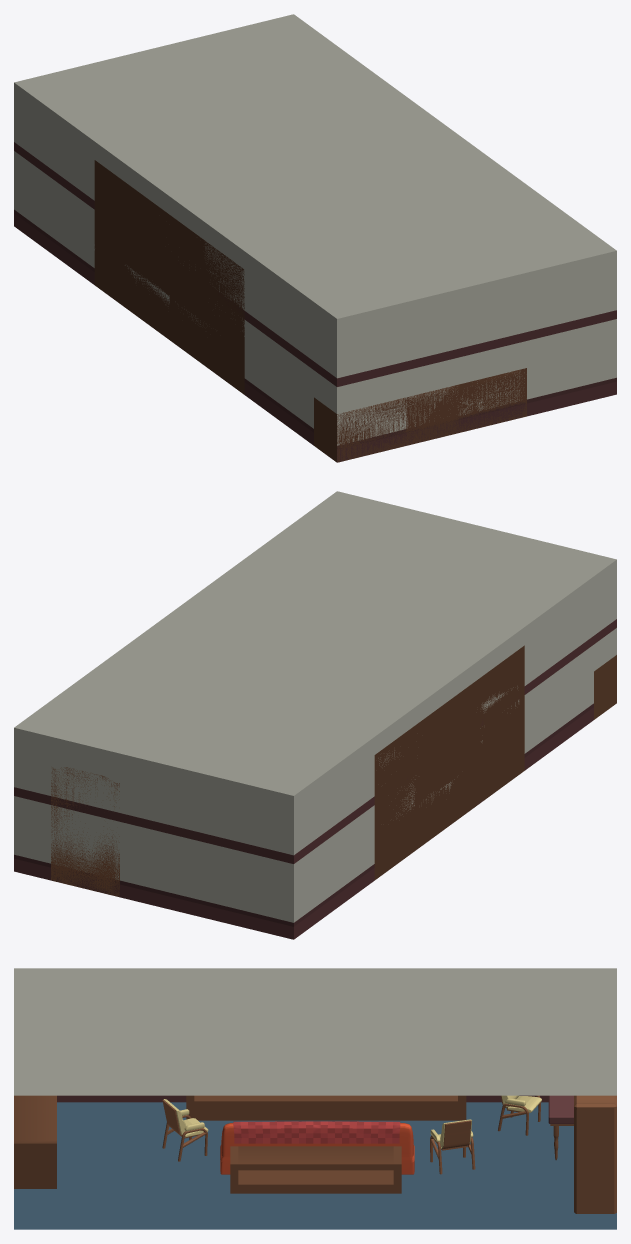
The model's file is Room_LivingRoom.fbx.
3 renders of one model, top to bottom at view 1: azimuth 30°, elevation 25°; view 2: azimuth 150°, elevation 25°; view 3: azimuth 270°, elevation 25°, orthographic. The views are drawn at different scales.
Parts seen in each view (by area): view 1: polySurface1, Unit_A, Unit_C; view 2: polySurface1, Unit_A, SHelves, Unit_C; view 3: polySurface1, Unit_B, Unit_A, SHelves, Unit_C, PassengerSeat_Solo4, PassengerSeat_Solo3, Passenger_Seat2 (×2), PassengerSeat_Solo1, Passenger_Seat_Frame2 (×2), PassengerSeat_Solo2, TableTop (+2 smaller).
Boxes of the visible parts, x1=… form: polySurface1: x1=14, y1=14, x2=616, y2=462; Unit_A: x1=94, y1=160, x2=244, y2=394; Unit_C: x1=314, y1=368, x2=526, y2=462; polySurface1: x1=14, y1=491, x2=616, y2=939; Unit_A: x1=374, y1=645, x2=524, y2=880; SHelves: x1=51, y1=767, x2=119, y2=897; Unit_C: x1=594, y1=655, x2=616, y2=719; polySurface1: x1=14, y1=968, x2=616, y2=1229; Unit_B: x1=230, y1=1146, x2=401, y2=1193; Unit_A: x1=186, y1=1095, x2=466, y2=1120; SHelves: x1=574, y1=1095, x2=616, y2=1213; Unit_C: x1=14, y1=1095, x2=56, y2=1188; PassengerSeat_Solo4: x1=313, y1=1121, x2=400, y2=1143; PassengerSeat_Solo3: x1=233, y1=1121, x2=313, y2=1143; Passenger_Seat2 (×2): x1=433, y1=1095, x2=541, y2=1150; PassengerSeat_Solo1: x1=317, y1=1123, x2=414, y2=1174; Passenger_Seat_Frame2 (×2): x1=430, y1=1095, x2=541, y2=1174; PassengerSeat_Solo2: x1=220, y1=1123, x2=317, y2=1174; TableTop: x1=548, y1=1095, x2=573, y2=1125.
Bounding box in the file's own units: 700 × 344 × 1400.
